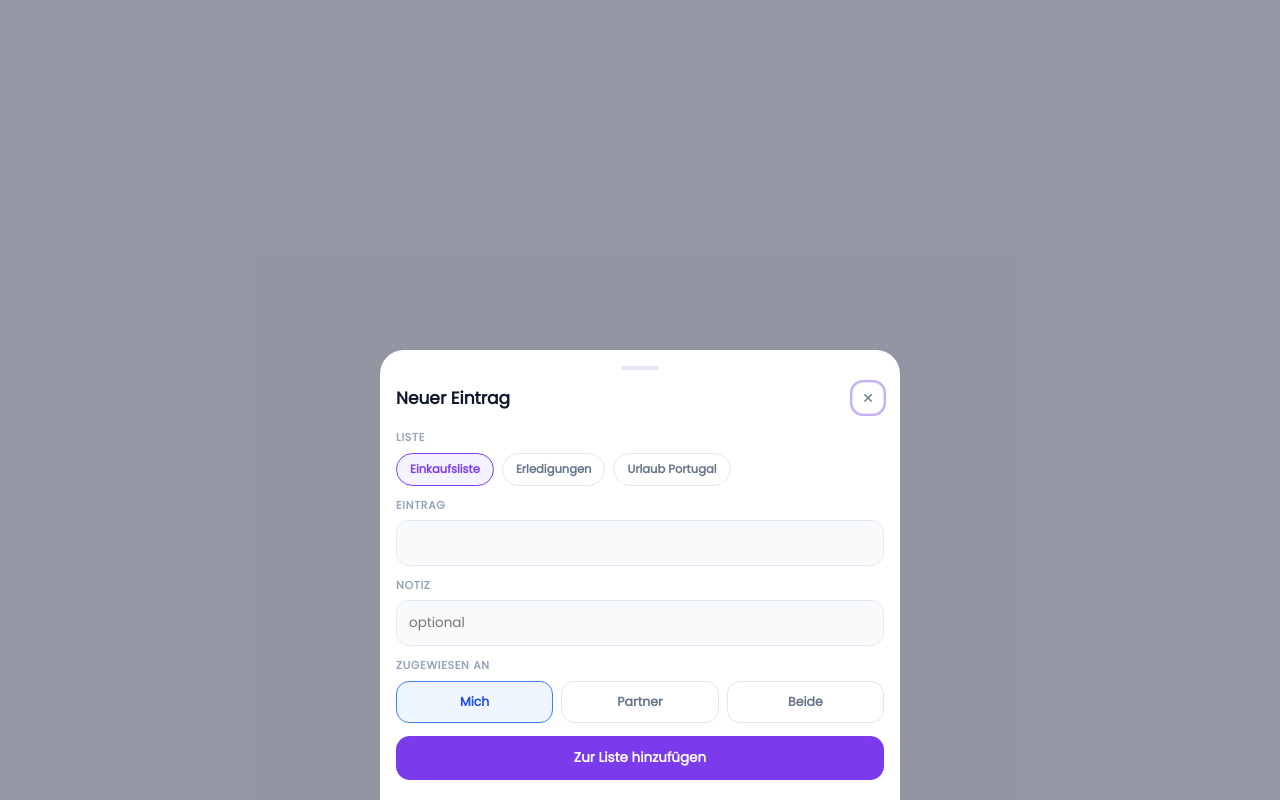
Test: TodoSheet › warnt bei einem offenen Duplikat und aendert die Knopfbeschriftung
Type "Haferflocken" into the field labelled "Eintrag".
click(640, 543); type("Haferflocken")  # box [396,520,884,566]
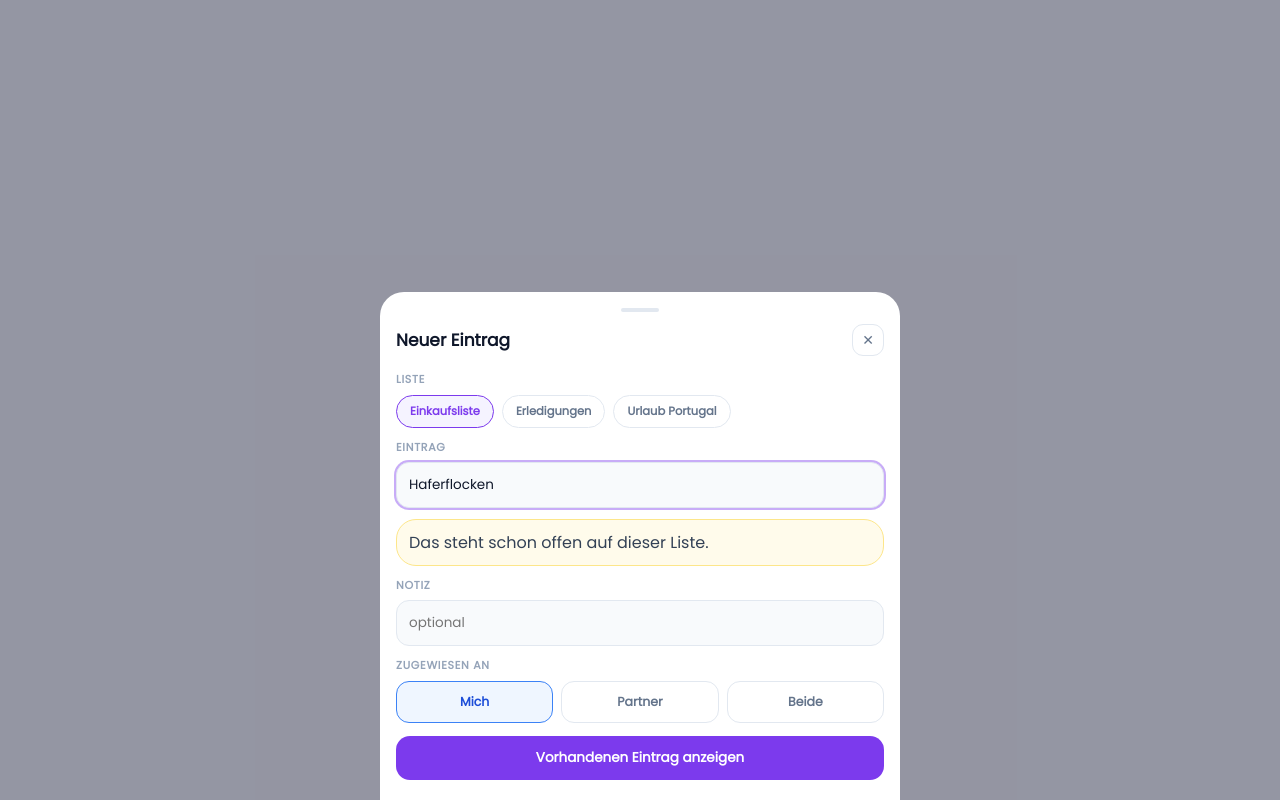
Result: the message shows "steht schon offen" at [409,531,708,554]
Result: the button "Vorhandenen Eintrag anzeigen" is shown at [396,736,884,780]
